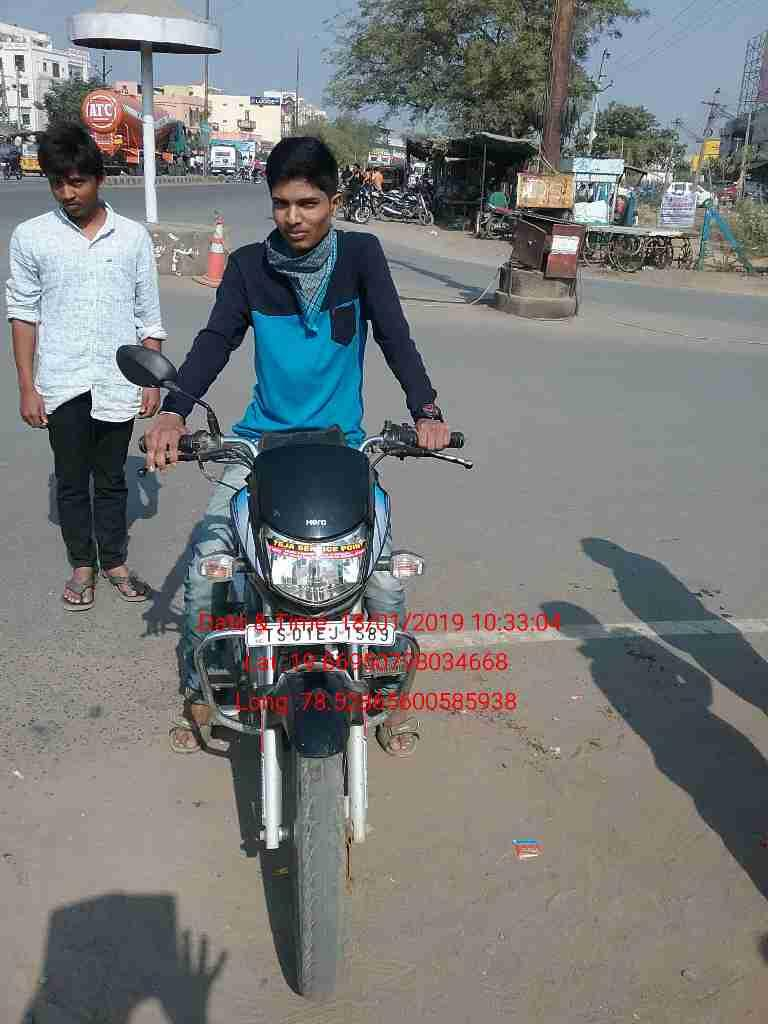plate: (241, 614, 396, 650)
